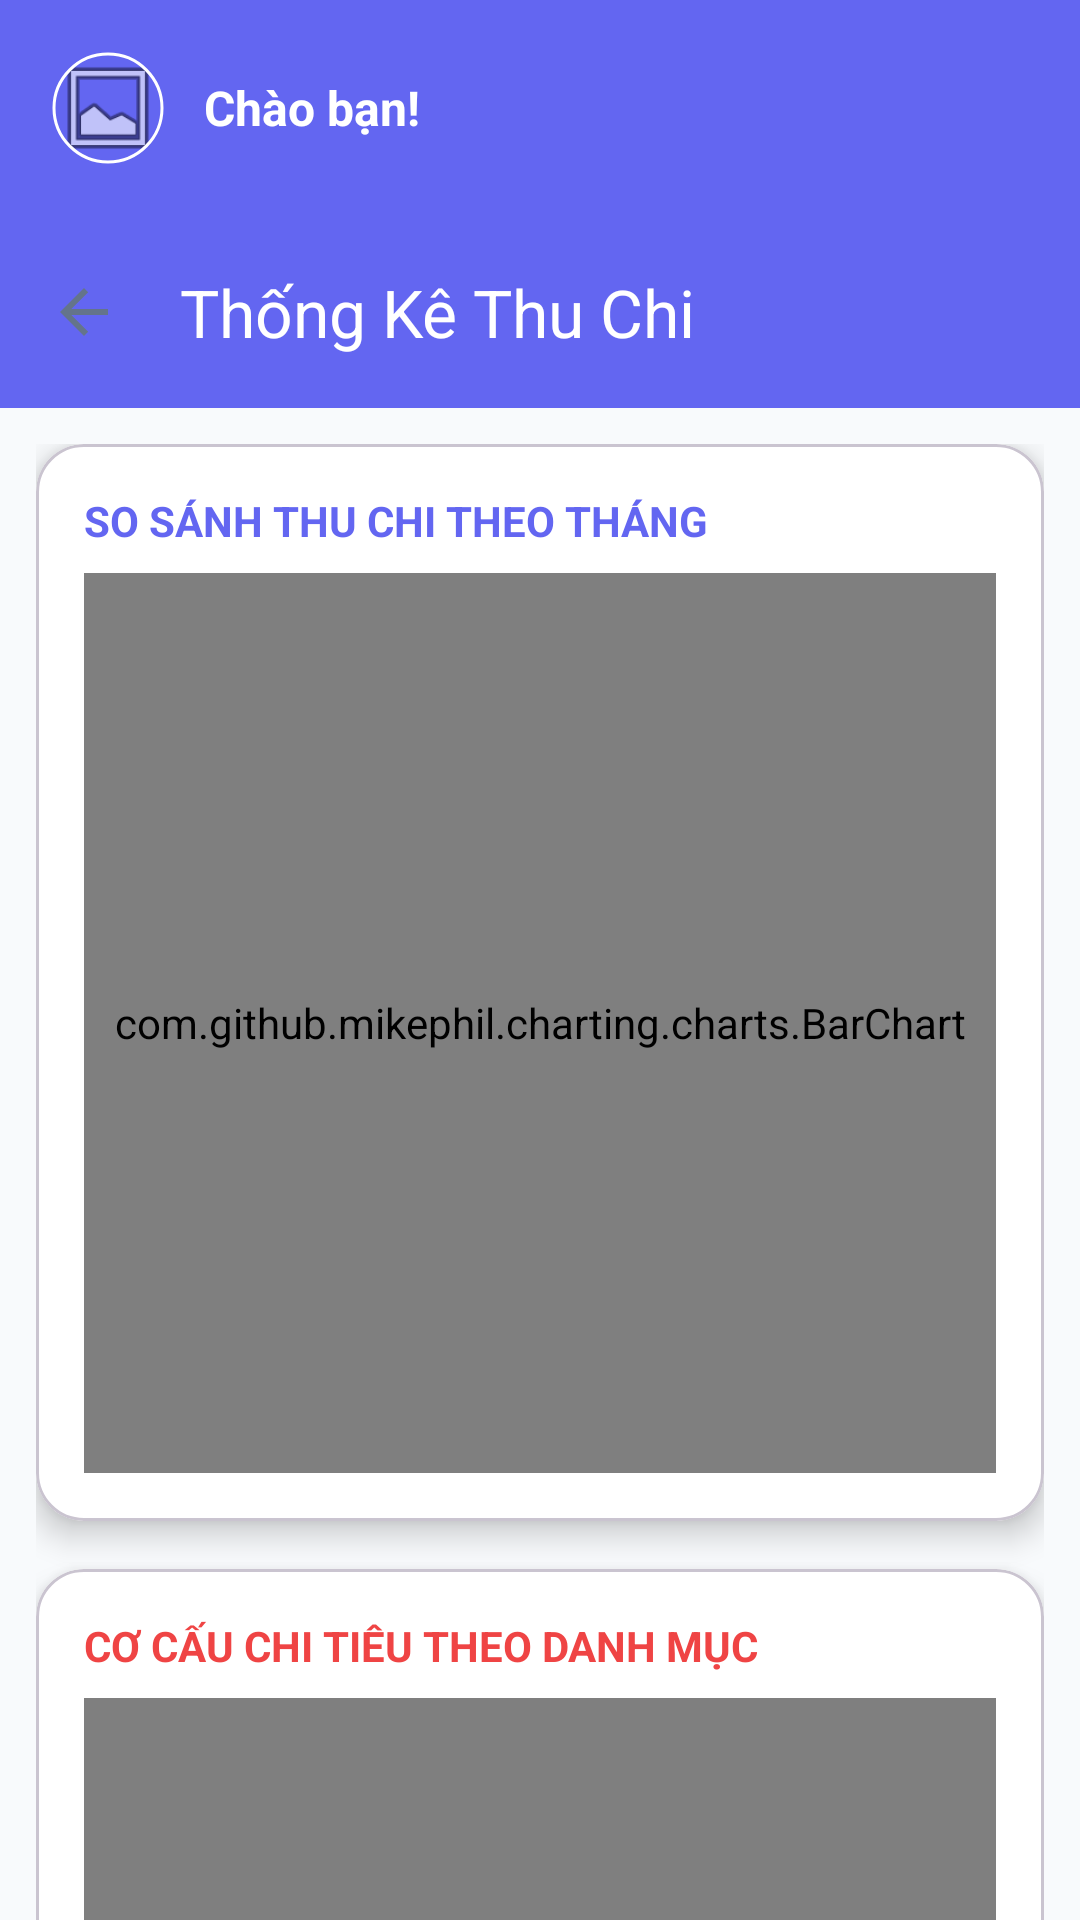

Named icons in this screenshot (1080px x 1920px) and their bounding boxes, [left=x1, top=y1, right=x2, bottom=y2]:
gallery: [left=52, top=52, right=164, bottom=164]
